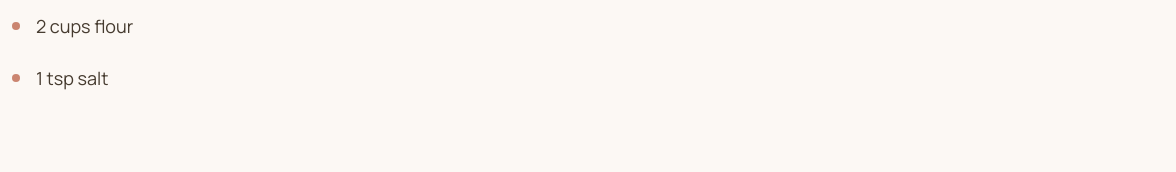
Test: IngredientsChecklist › strikes through an ingredient when clicked without rendering checkboxes
Step 1. Click the button "2 cups flour" → [85, 26], box [12,12,1164,40]
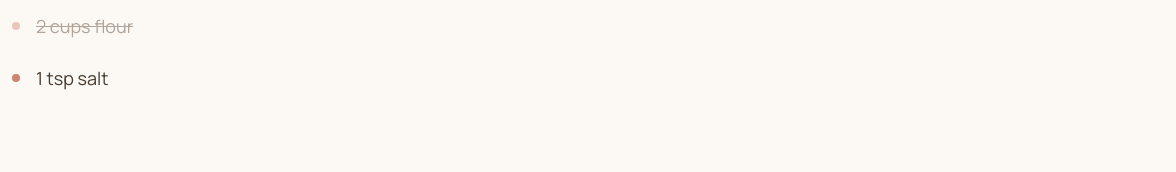
Expected: the button "2 cups flour" is pressed
Expected: the text "2 cups flour" has class "line-through", [36,12,133,40]
Step 2. Click the button "2 cups flour" → [85, 26], box [12,12,1164,40]
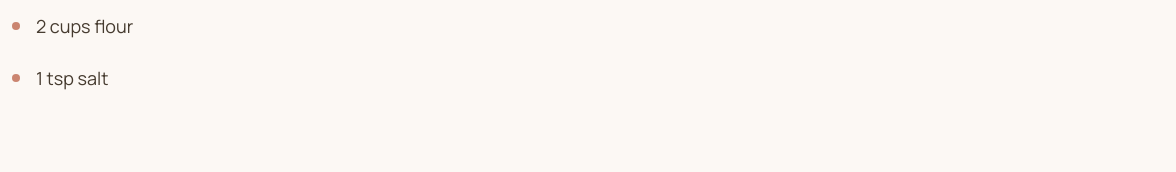
Expected: the button "2 cups flour" is not pressed, [12,12,1164,40]
